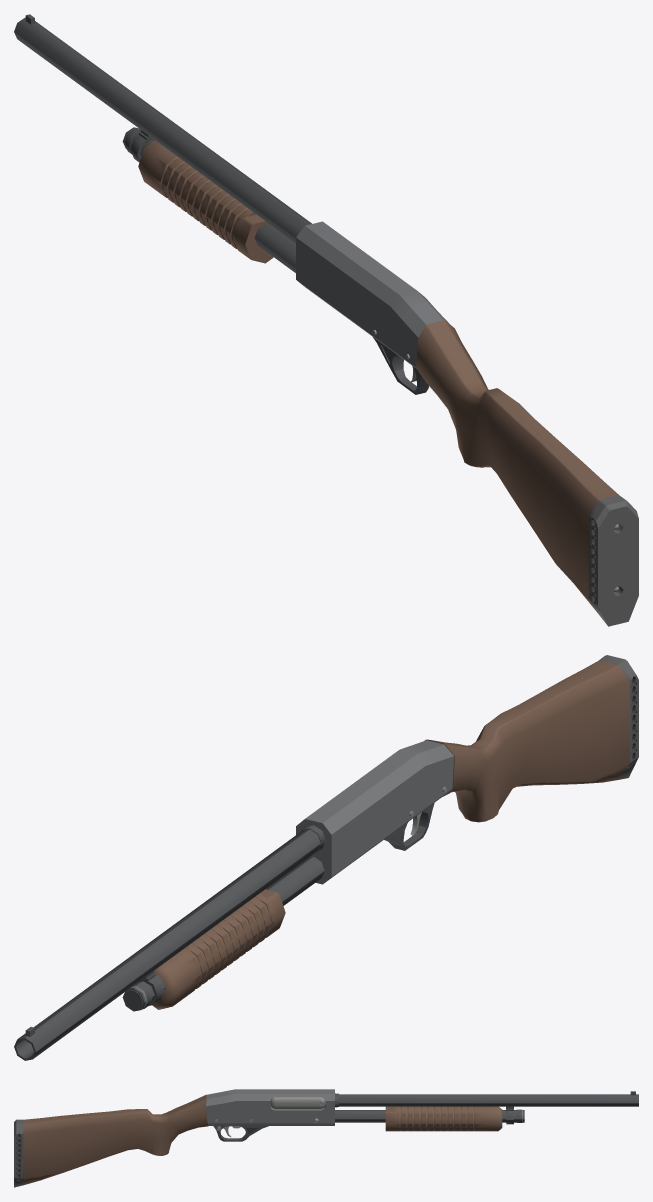
The model's file is mp-133_shotgun.glb.
The picture shows the model from 3 angles, top to bottom: view 1: azimuth 30°, elevation 25°; view 2: azimuth 150°, elevation 25°; view 3: azimuth 270°, elevation 25°; orthographic projection. The views are drawn at different scales.
Parts seen in each view (by area): view 1: pCylinder19, polySurface7, pCylinder1, pCylinder7, pCylinder8, pCube13; view 2: pCylinder19, polySurface7, pCylinder1, pCylinder7, pCylinder8, pCube13; view 3: pCylinder19, polySurface7, pCylinder1, pCylinder7, pCylinder8, pCube16, pCube13.
Part boxes in pixels (x1,y1,x2,y2): pCylinder19: [416, 320, 638, 626]; polySurface7: [296, 221, 449, 368]; pCylinder1: [14, 14, 311, 242]; pCylinder7: [138, 140, 273, 263]; pCylinder8: [122, 127, 295, 272]; pCube13: [373, 337, 428, 394]; pCylinder19: [424, 655, 638, 822]; polySurface7: [296, 740, 454, 884]; pCylinder1: [14, 825, 325, 1060]; pCylinder7: [152, 889, 285, 1009]; pCylinder8: [122, 856, 324, 1011]; pCube13: [384, 803, 434, 850]; pCylinder19: [14, 1094, 208, 1187]; polySurface7: [206, 1089, 334, 1125]; pCylinder1: [335, 1091, 638, 1107]; pCylinder7: [385, 1106, 502, 1131]; pCylinder8: [335, 1106, 524, 1124]; pCube16: [270, 1097, 324, 1108]; pCube13: [213, 1126, 268, 1141].
Bounding box in the file's own units: 0.00636 × 0.0264 × 0.16.
